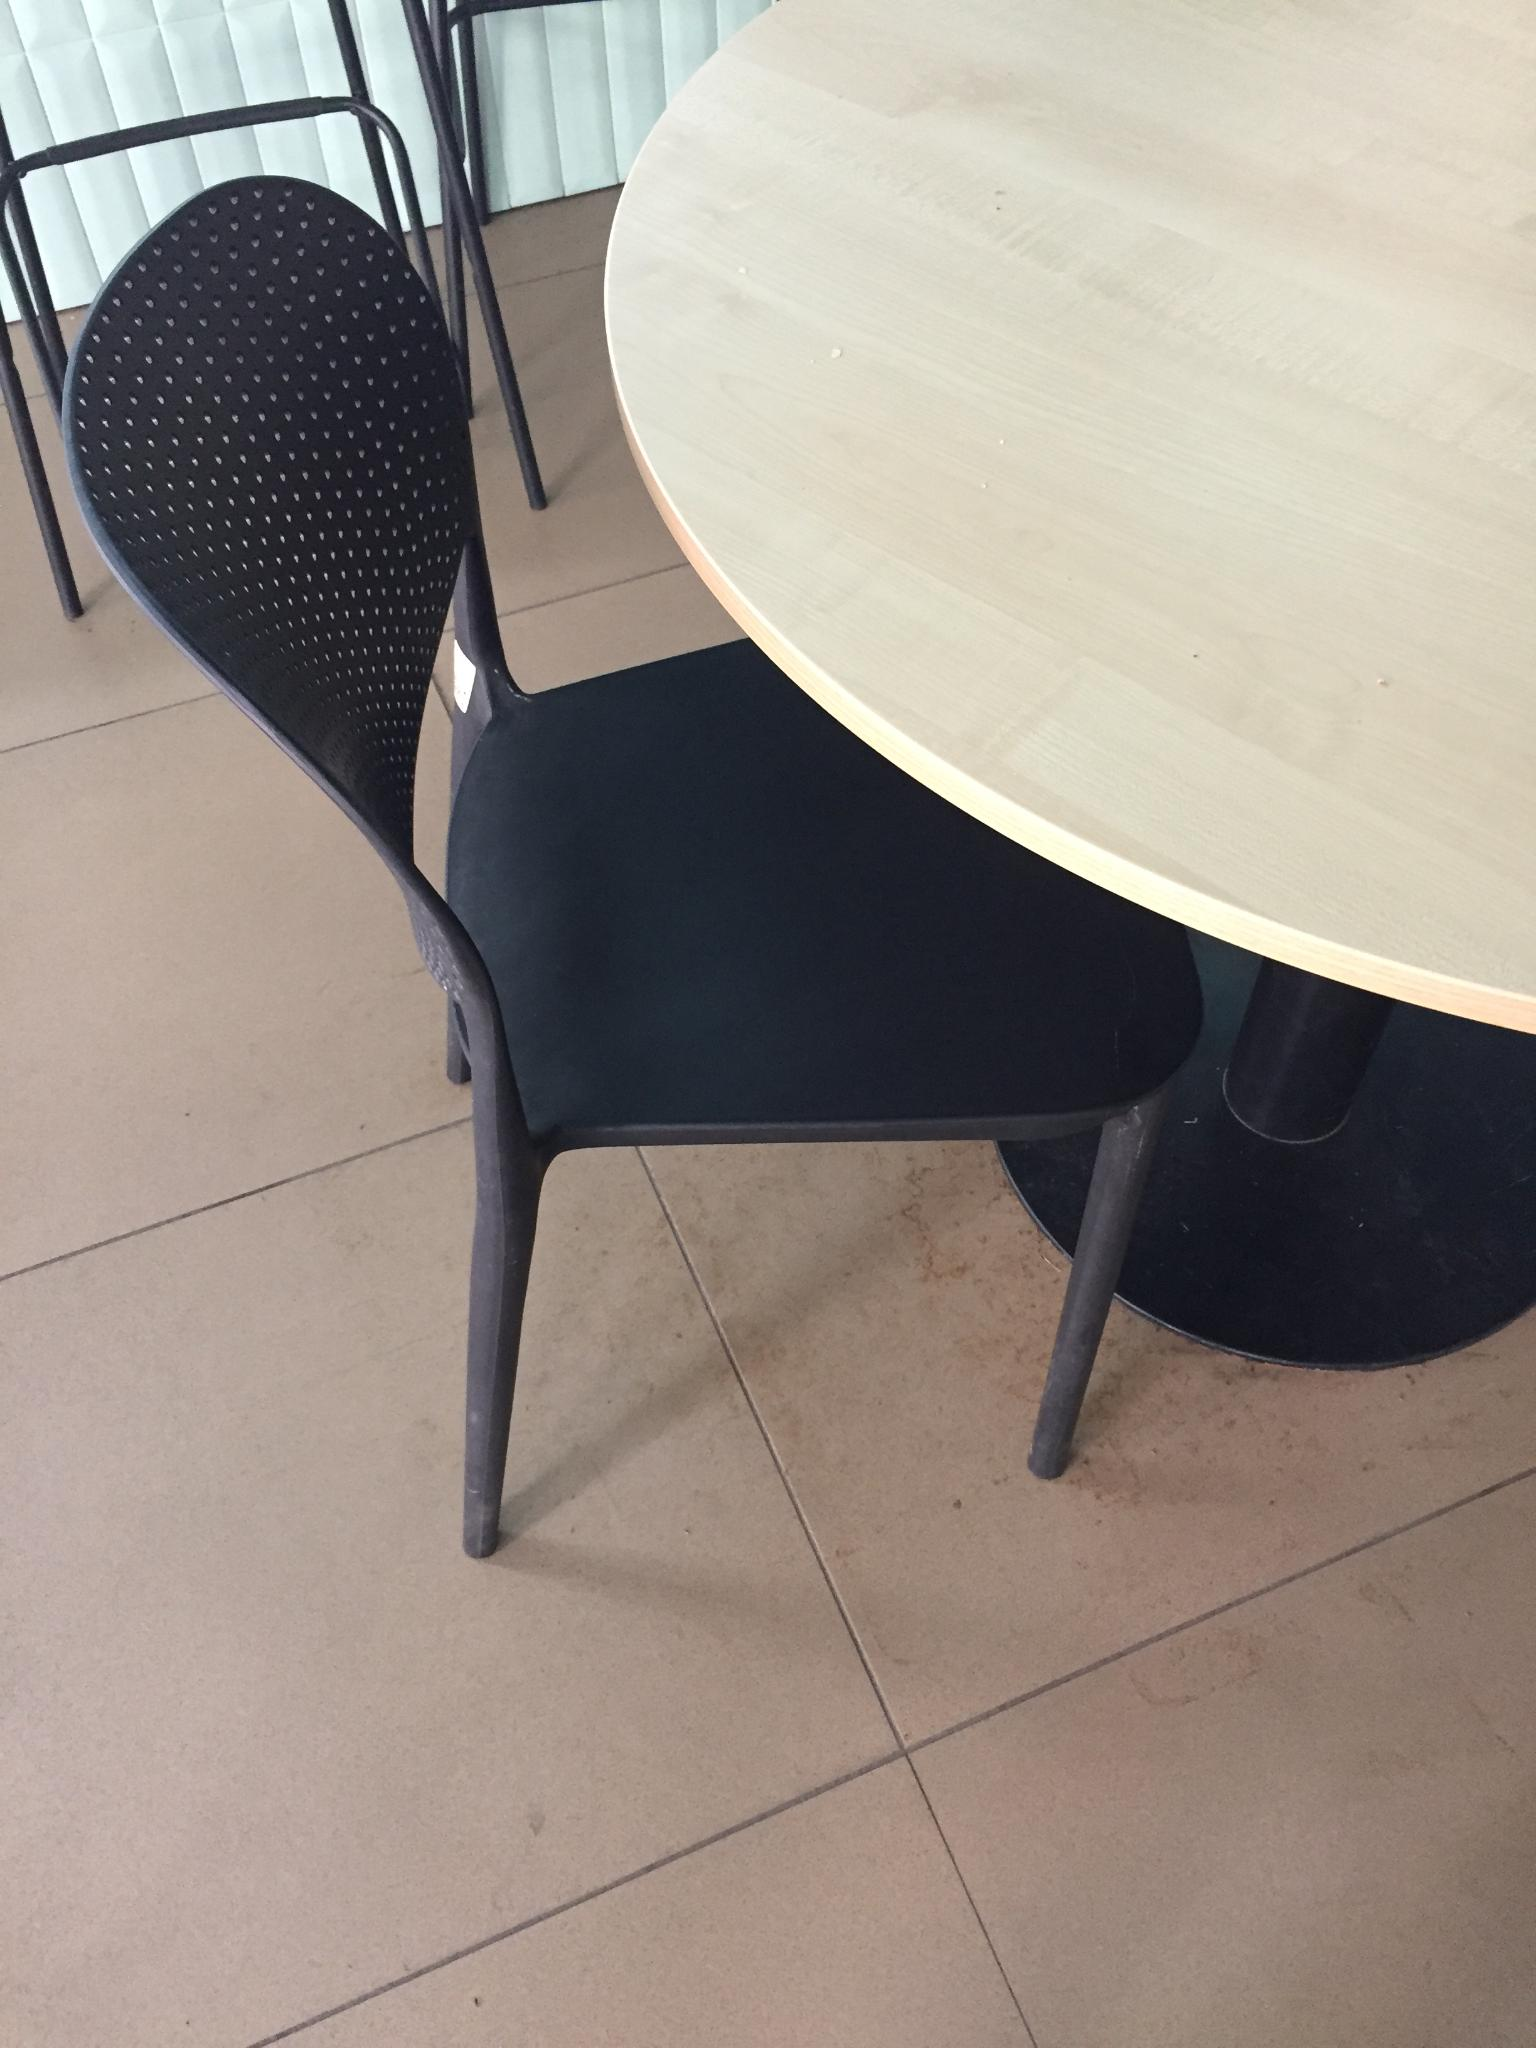chair: (3, 94, 1205, 1558)
